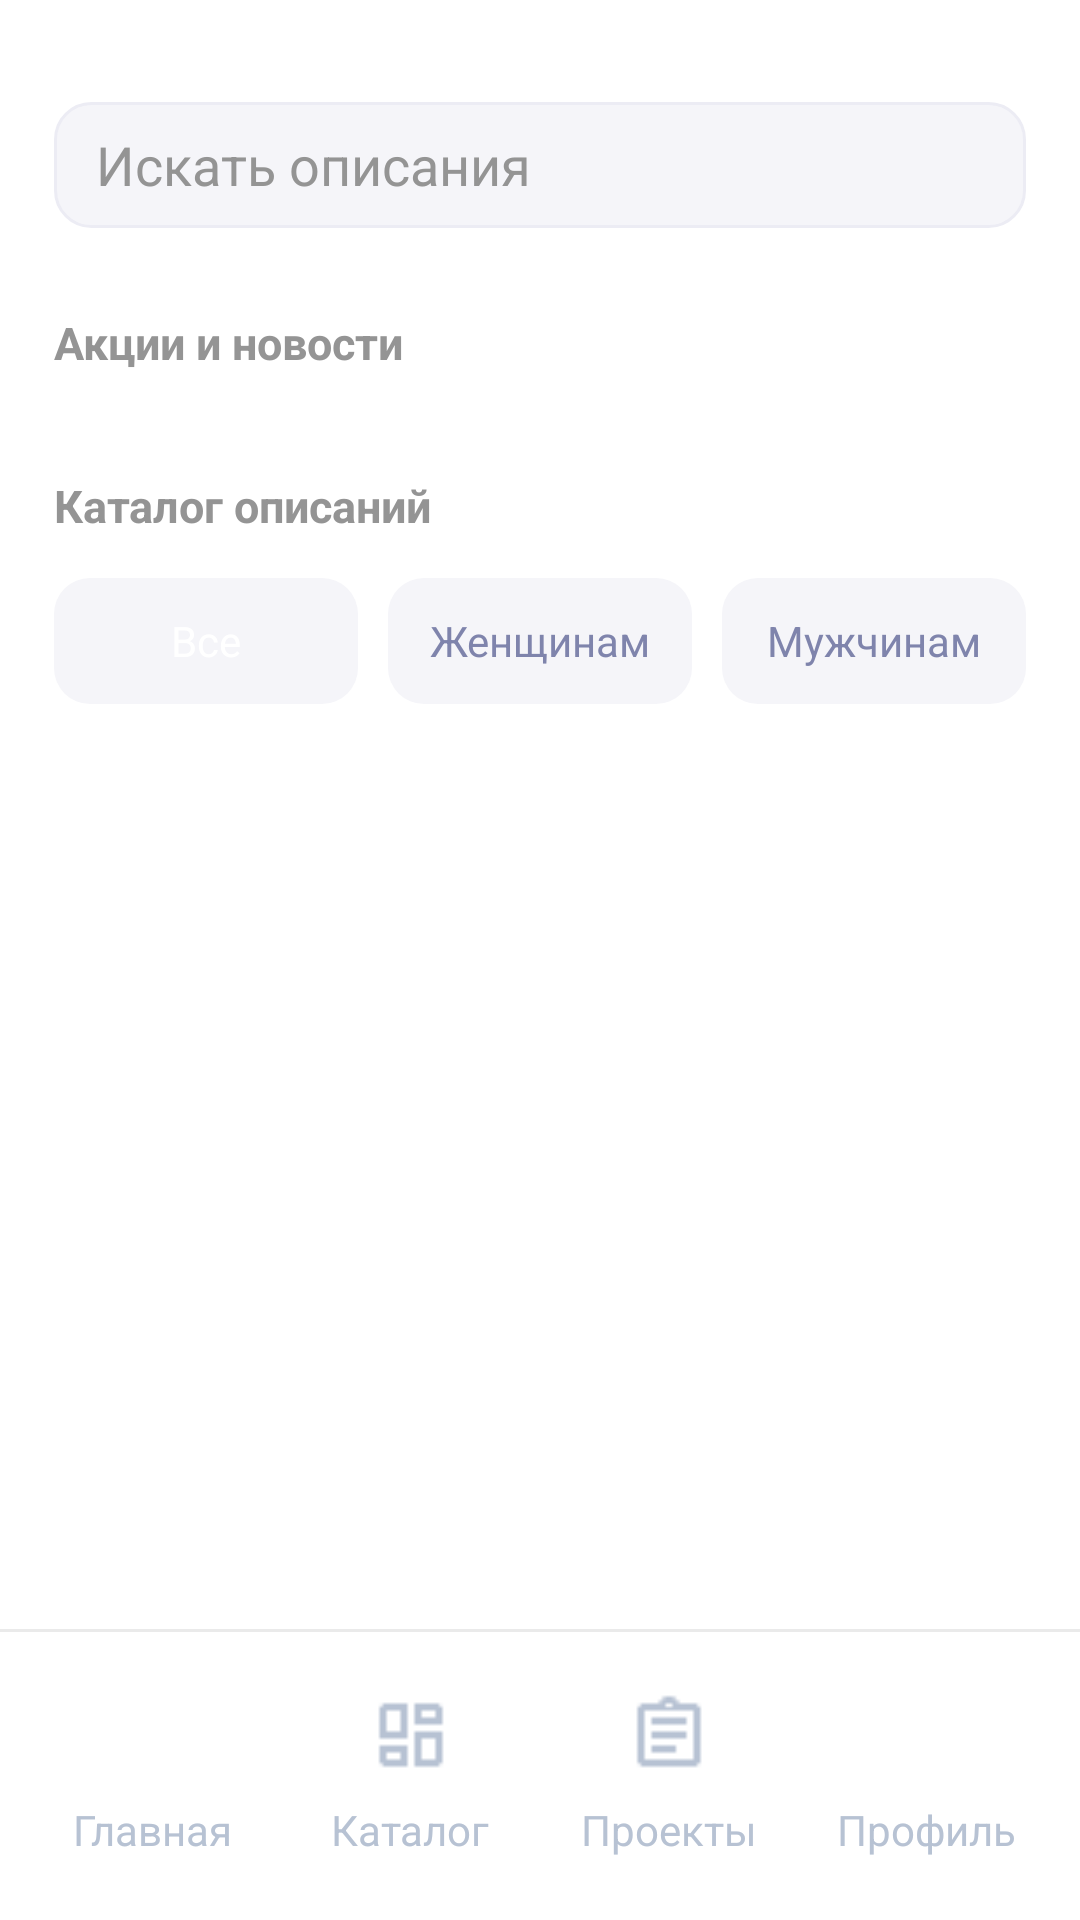

Named icons in this screenshot (1080px x 1920px) and their centers, (x=x, y=y):
catalog page: (x=411, y=1735)
projects page: (x=669, y=1731)
